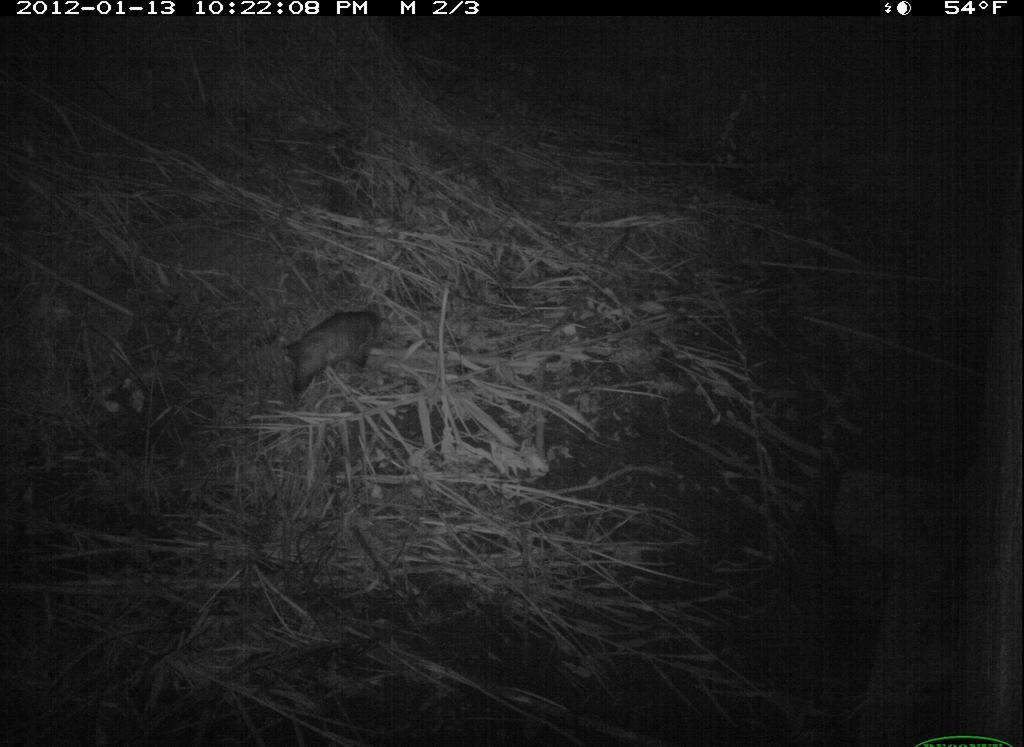opossum: (274, 286, 395, 418)
